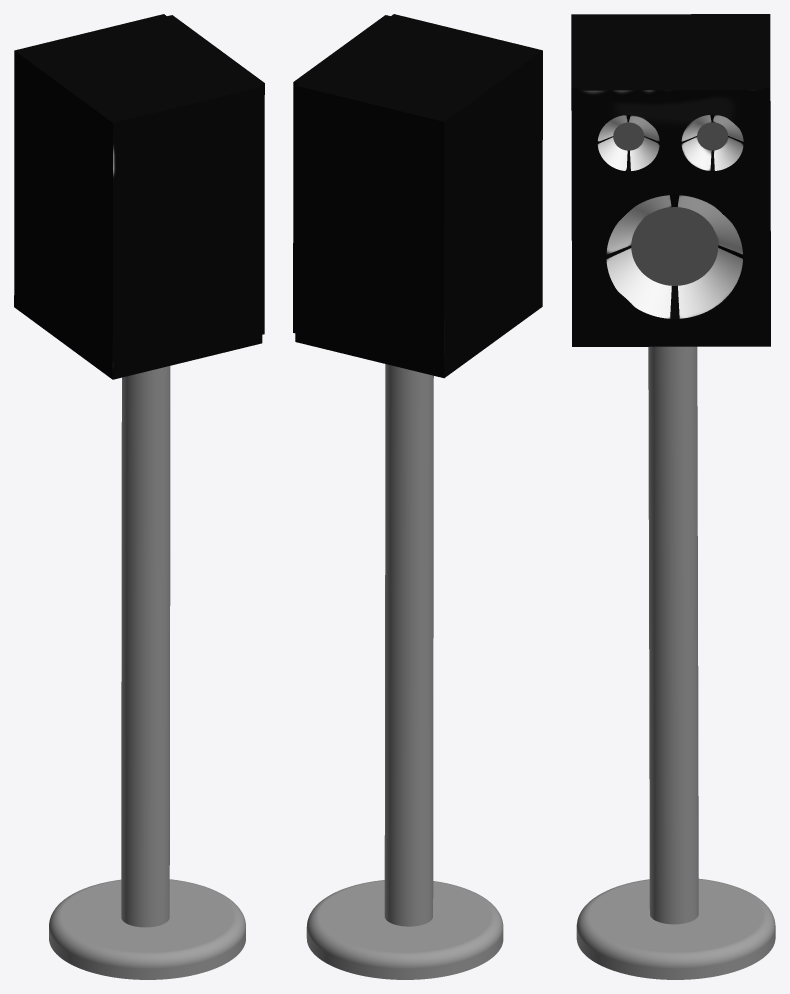
Rendered from speakerpole.dae.
3 views of the same model, side by side, from view 1: azimuth 30°, elevation 25°; view 2: azimuth 150°, elevation 25°; view 3: azimuth 270°, elevation 25° (orthographic).
Parts seen in each view (by area): view 1: dance_Body 49 (1), dance_Body 48 (1), dance_Body 47 (1); view 2: dance_Body 49 (1), dance_Body 48 (1), dance_Body 47 (1); view 3: dance_Body 49 (1), dance_Body 48 (1), dance_Body 47 (1).
Part boxes in pixels (<box>): dance_Body 49 (1): <box>14,14,264,379</box>; dance_Body 48 (1): <box>121,366,170,927</box>; dance_Body 47 (1): <box>49,879,245,979</box>; dance_Body 49 (1): <box>293,14,542,378</box>; dance_Body 48 (1): <box>384,364,433,926</box>; dance_Body 47 (1): <box>306,880,503,979</box>; dance_Body 49 (1): <box>571,14,770,346</box>; dance_Body 48 (1): <box>648,346,698,924</box>; dance_Body 47 (1): <box>576,878,775,979</box>.
Bounding box in the file's own units: 0.4006 × 0.4091 × 1.95.
Materials: 3 (3 with a texture image).
